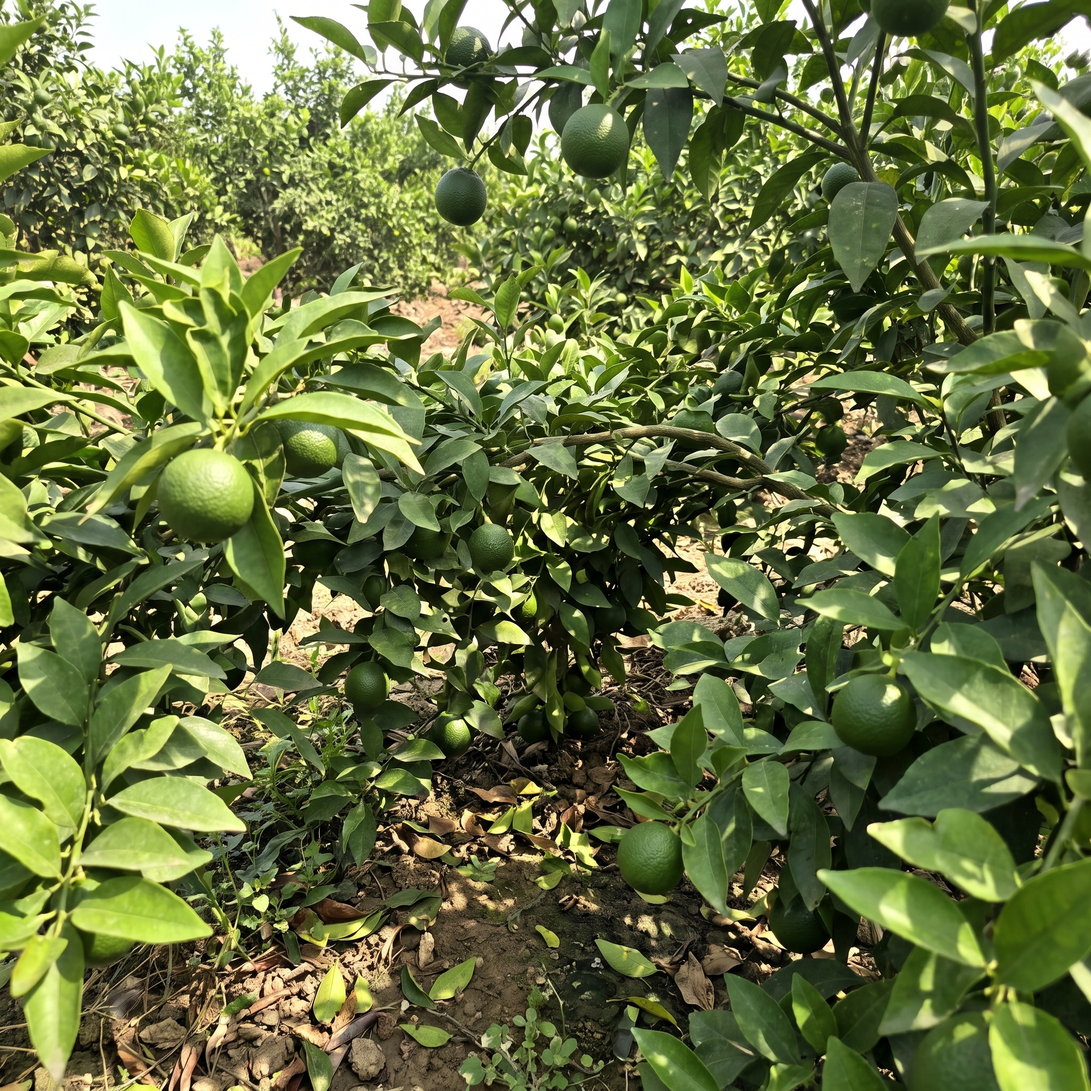orange_immature: (158, 449, 255, 542), (908, 1012, 998, 1090), (831, 674, 916, 756), (561, 104, 630, 178), (617, 821, 683, 894), (276, 420, 345, 477), (769, 893, 829, 955), (435, 167, 486, 226), (870, 0, 949, 36), (468, 523, 514, 573), (345, 661, 388, 711), (1066, 395, 1090, 482), (445, 26, 494, 68), (427, 714, 472, 758), (82, 932, 133, 967), (292, 540, 341, 573), (821, 162, 860, 202), (404, 526, 450, 559), (361, 568, 388, 611), (517, 710, 550, 744), (565, 707, 599, 739), (1033, 681, 1062, 718), (816, 425, 847, 457), (671, 409, 714, 432), (593, 604, 626, 633), (815, 397, 843, 424), (566, 666, 591, 696), (712, 370, 743, 394), (835, 288, 871, 302), (834, 309, 869, 322), (753, 352, 771, 376), (546, 335, 566, 351), (562, 216, 577, 235), (112, 124, 130, 139), (1057, 731, 1072, 749), (549, 314, 563, 333), (34, 89, 50, 105), (588, 188, 601, 207), (612, 293, 627, 307), (541, 229, 555, 242), (616, 275, 628, 290), (518, 290, 531, 303), (143, 112, 156, 124), (551, 217, 561, 232)
